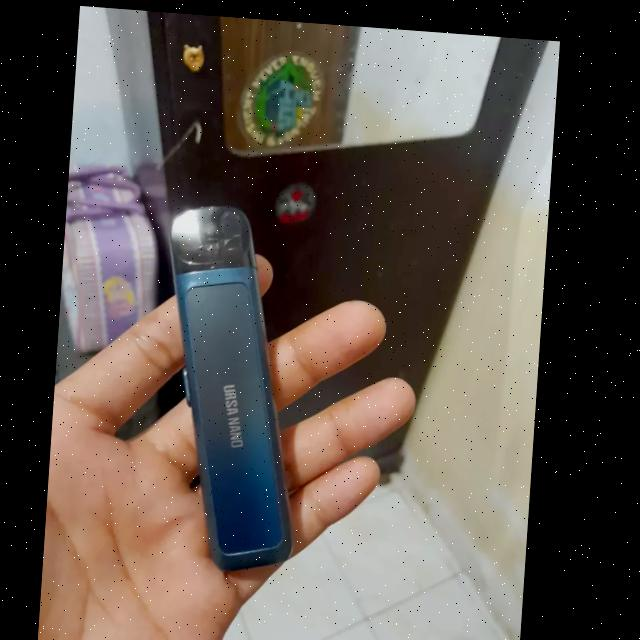vape: (152, 194, 319, 568)
